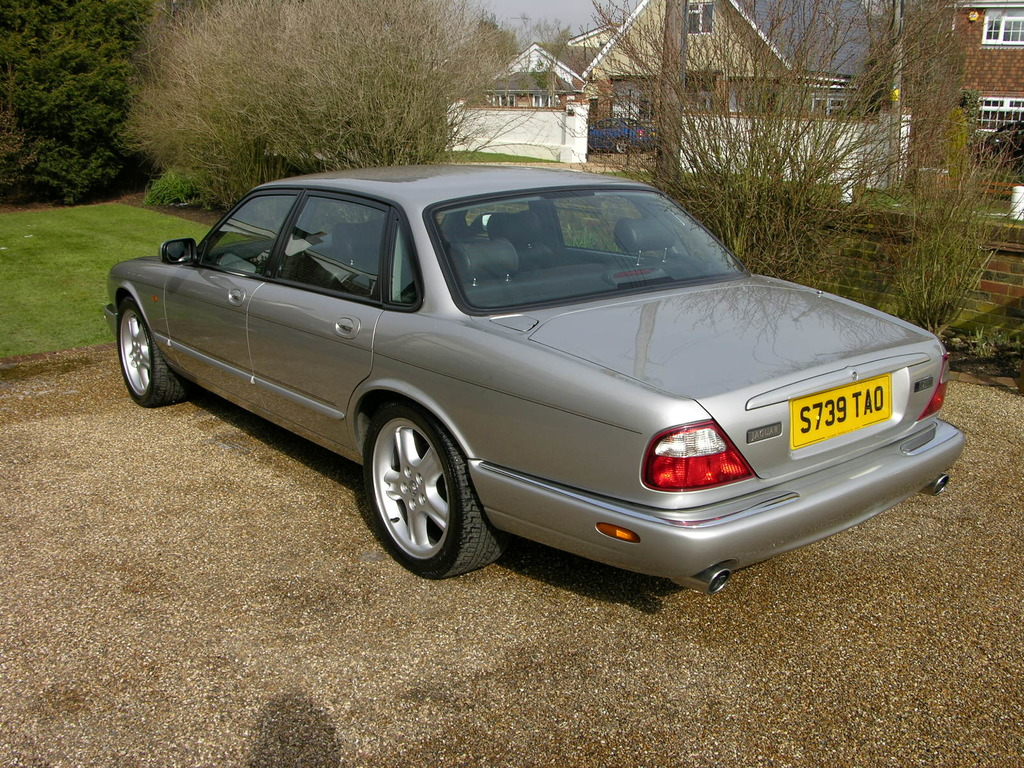Car: (104, 163, 967, 595), (964, 117, 1023, 171), (589, 116, 654, 154)
